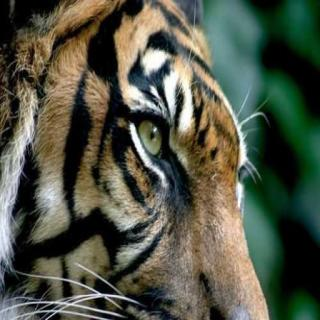Tiger: (0, 0, 281, 320)
